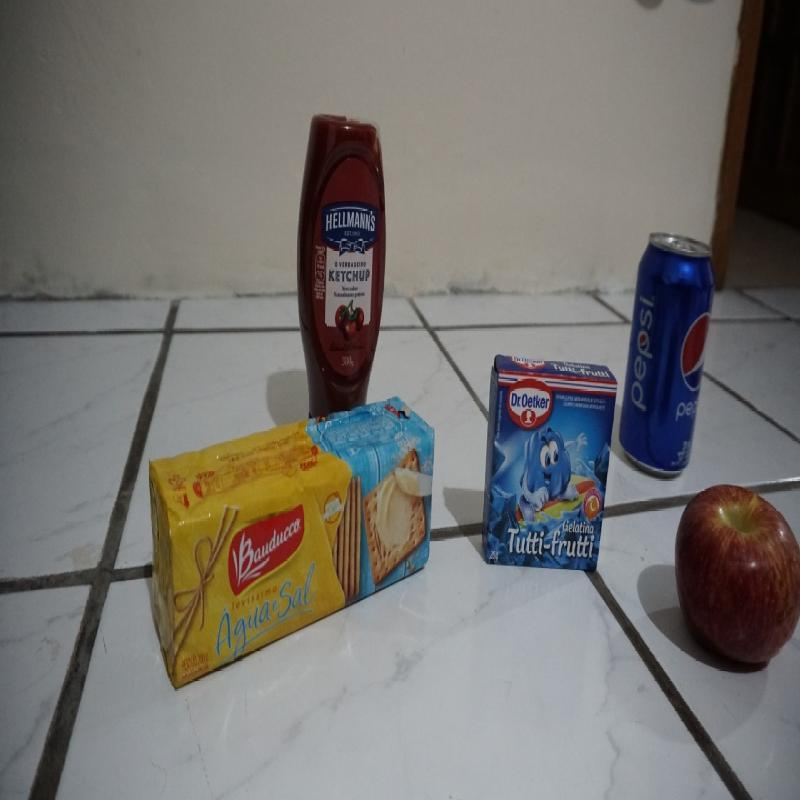Apple: (669, 478, 800, 674)
Cracker: (153, 397, 436, 687)
Gelatine: (482, 348, 618, 576)
Ketchup: (296, 114, 386, 394)
Soda can: (620, 229, 712, 474)
